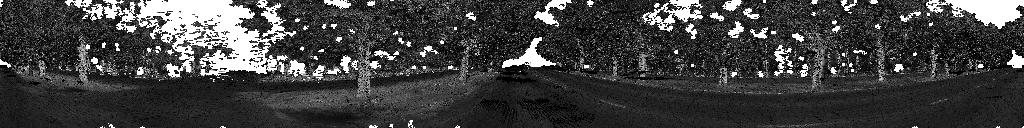traffic_pole: (268, 59, 278, 70)
